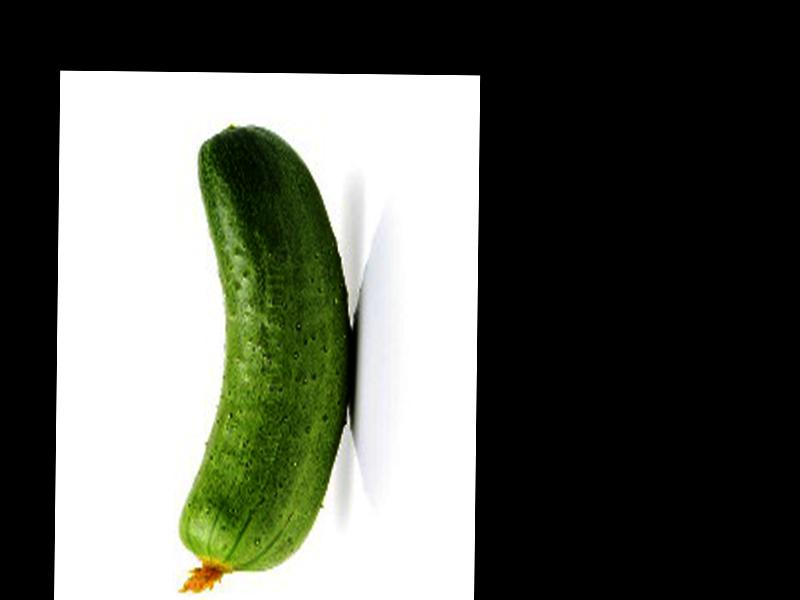Cucumber: (176, 123, 356, 599)
